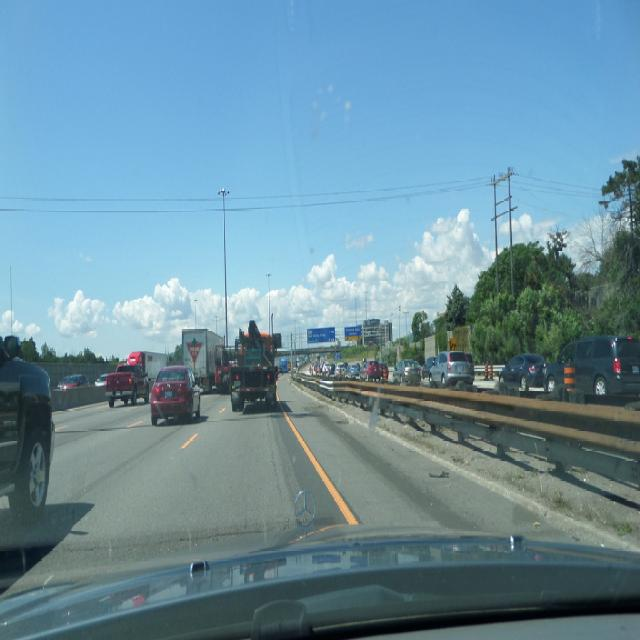car: (551, 327, 634, 405), (150, 367, 203, 422), (59, 368, 87, 387), (93, 370, 109, 386)
